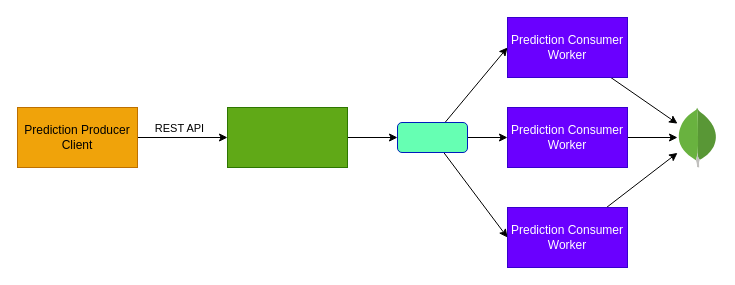
The diagram is 735 pixels wide and 285 high, and some of its shapes have lost their labels. Each missing label, with the box of its shape:
Prediction Producer Service: (226, 106, 348, 168)
Queue: (396, 122, 468, 152)
